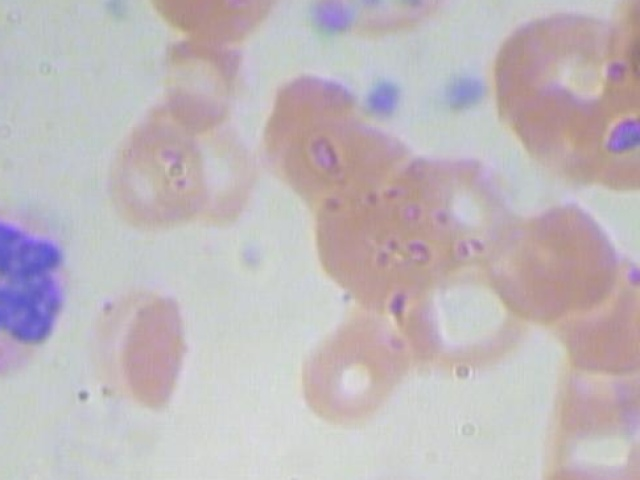Platelets: (357, 68, 415, 129), (434, 61, 491, 122), (297, 0, 354, 42)
RBC: (487, 0, 638, 157), (62, 271, 205, 428), (294, 174, 449, 309), (277, 109, 424, 247), (503, 196, 633, 328), (284, 298, 407, 437), (394, 258, 524, 389), (96, 96, 204, 234), (161, 101, 268, 239), (540, 312, 640, 443), (524, 385, 640, 480), (559, 256, 640, 388), (157, 25, 250, 138), (291, 0, 466, 57), (592, 0, 640, 143), (504, 448, 635, 480), (327, 467, 468, 480), (373, 467, 514, 480), (0, 364, 1, 480)
WBC: (0, 196, 90, 380)
